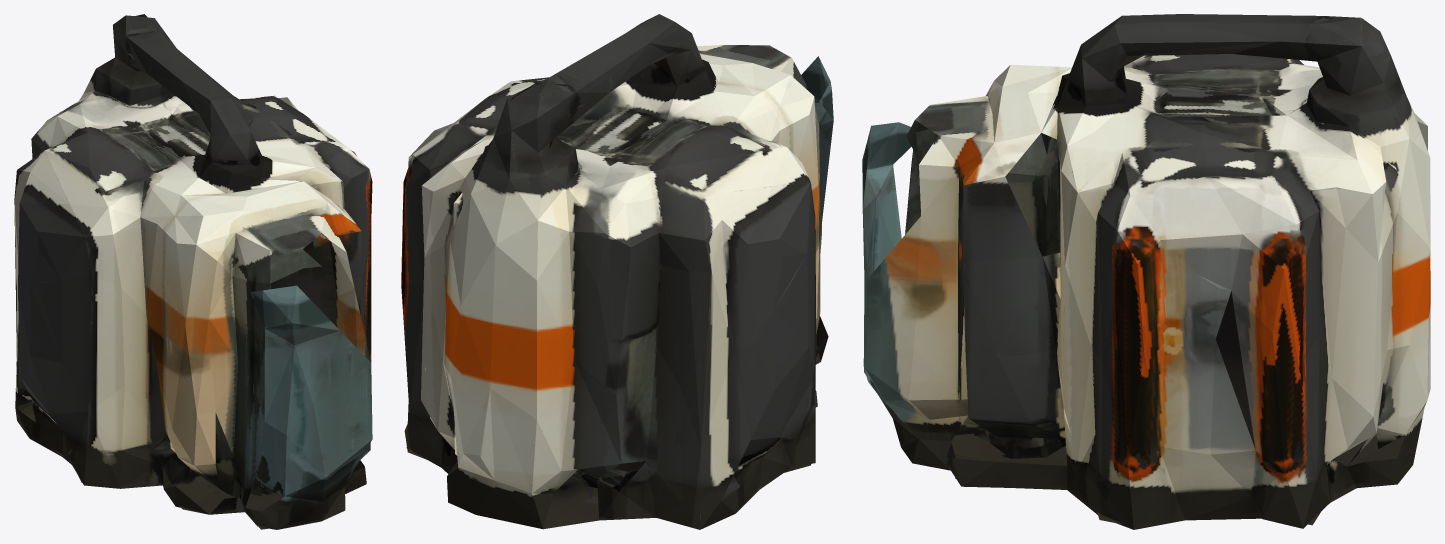
File: oxygen_generator.glb
The picture shows the model from 3 angles, left to right: view 1: azimuth 30°, elevation 25°; view 2: azimuth 150°, elevation 25°; view 3: azimuth 270°, elevation 25°; orthographic projection. The views are drawn at different scales.
Visible parts, largest first — view 1: geometry_0; view 2: geometry_0; view 3: geometry_0.
Boxes of the visible parts, box(x1,y1,x2,y2) form: geometry_0: box(14, 14, 372, 529); geometry_0: box(401, 14, 833, 529); geometry_0: box(862, 14, 1430, 529).
Size of the model in its own units: 0.7226 by 0.8333 by 0.9923.
Materials: 1 (1 with a texture image).
